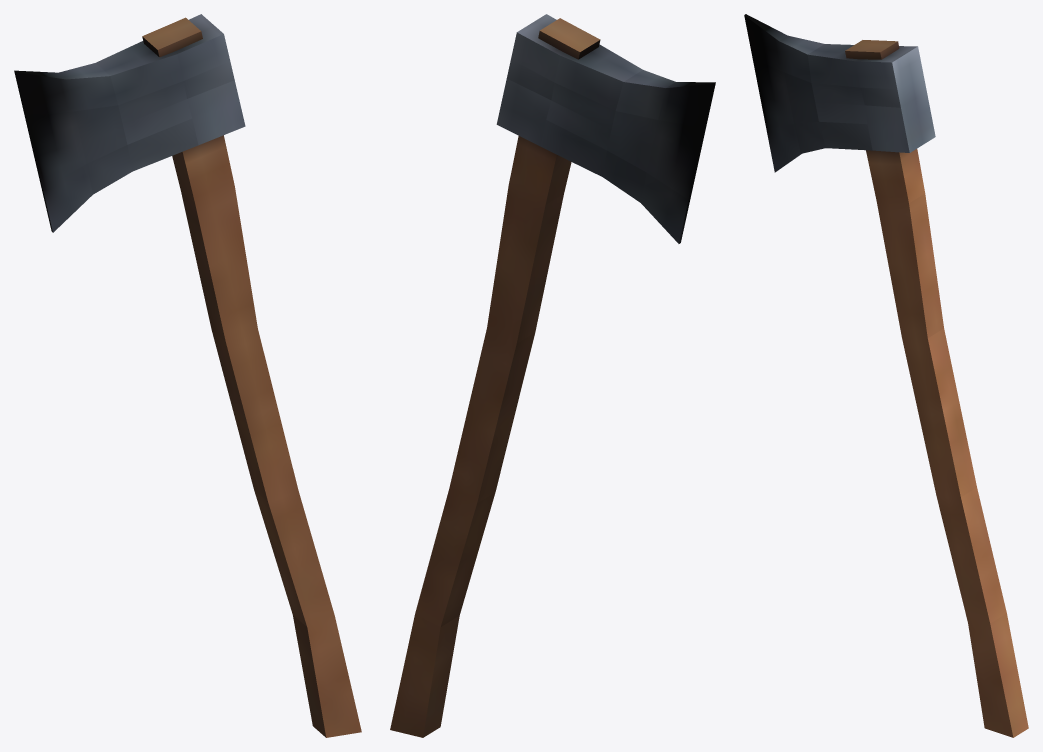
The model's file is axe.glb.
The picture shows the model from 3 angles, left to right: view 1: azimuth 30°, elevation 25°; view 2: azimuth 150°, elevation 25°; view 3: azimuth 330°, elevation 25°; orthographic projection. The views are drawn at different scales.
Visible parts, largest first — view 1: Object001.007_Object001_mtl_0.001; view 2: Object001.007_Object001_mtl_0.001; view 3: Object001.007_Object001_mtl_0.001.
Part boxes in pixels (x1,y1,x2,y2): Object001.007_Object001_mtl_0.001: [14, 14, 361, 737]; Object001.007_Object001_mtl_0.001: [390, 14, 715, 737]; Object001.007_Object001_mtl_0.001: [744, 14, 1028, 737].
Bounding box in the file's own units: 0.9497 × 2.04 × 0.1422.
1 material, 1 textured.
